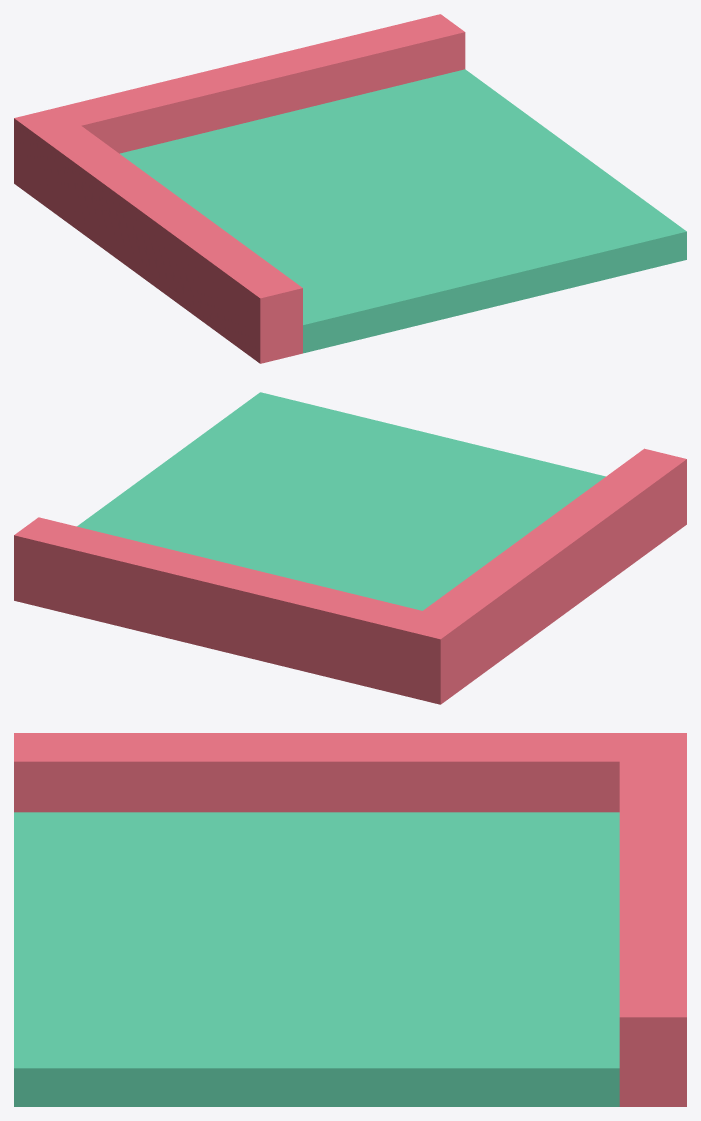
File: corner.glb
3 renders of one model, top to bottom at view 1: azimuth 30°, elevation 25°; view 2: azimuth 150°, elevation 25°; view 3: azimuth 270°, elevation 25°, orthographic. The views are drawn at different scales.
Parts seen in each view (by area): view 1: corner; view 2: corner; view 3: corner.
Boxes of the visible parts, x1,y1,x2,y2 form: corner: (14, 14, 686, 363); corner: (14, 392, 686, 704); corner: (14, 733, 686, 1106).
Size of the model in its own units: 0.9999 by 0.1466 by 0.9999.
